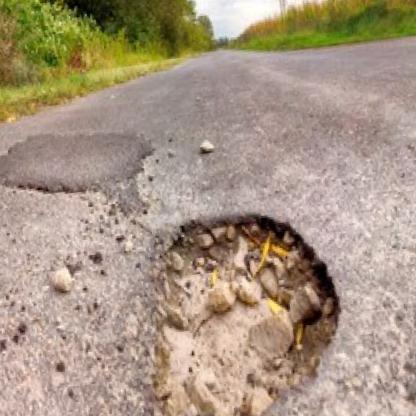pothole: (124, 196, 357, 416)
